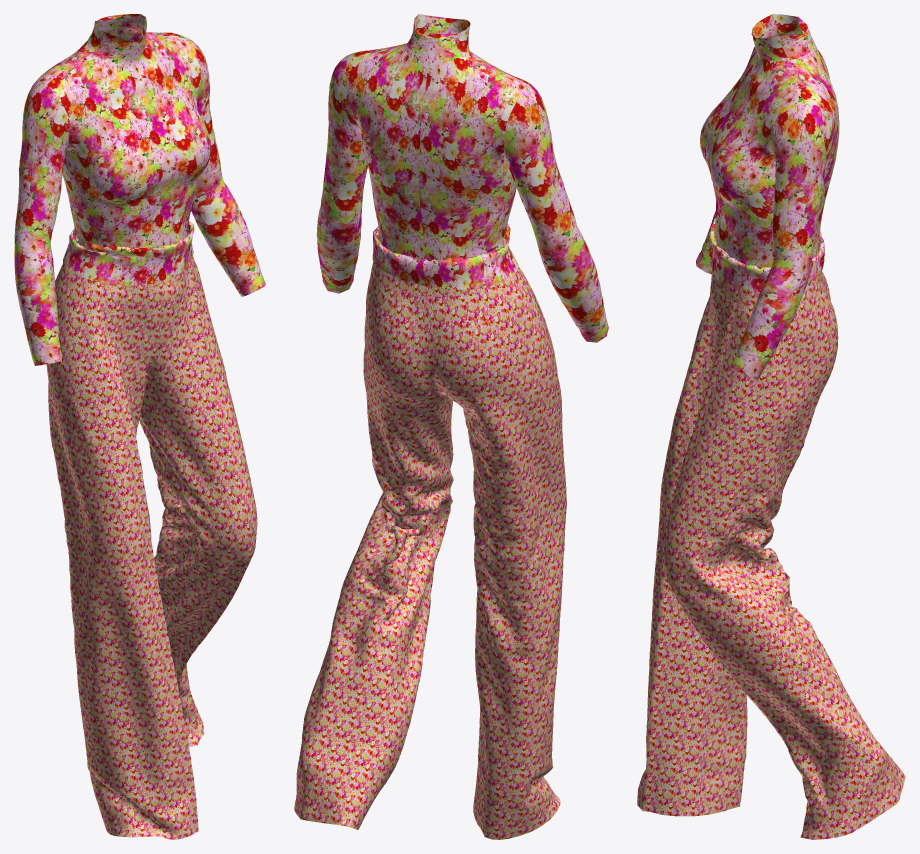
File: DA_HighNeck+WidePants_0000057.obj
3 renders of one model, left to right at view 1: azimuth 30°, elevation 25°; view 2: azimuth 150°, elevation 25°; view 3: azimuth 270°, elevation 25°, orthographic. The views are drawn at different scales.
Bounding box in the file's own units: 0.5423 × 1.62 × 0.4951.
